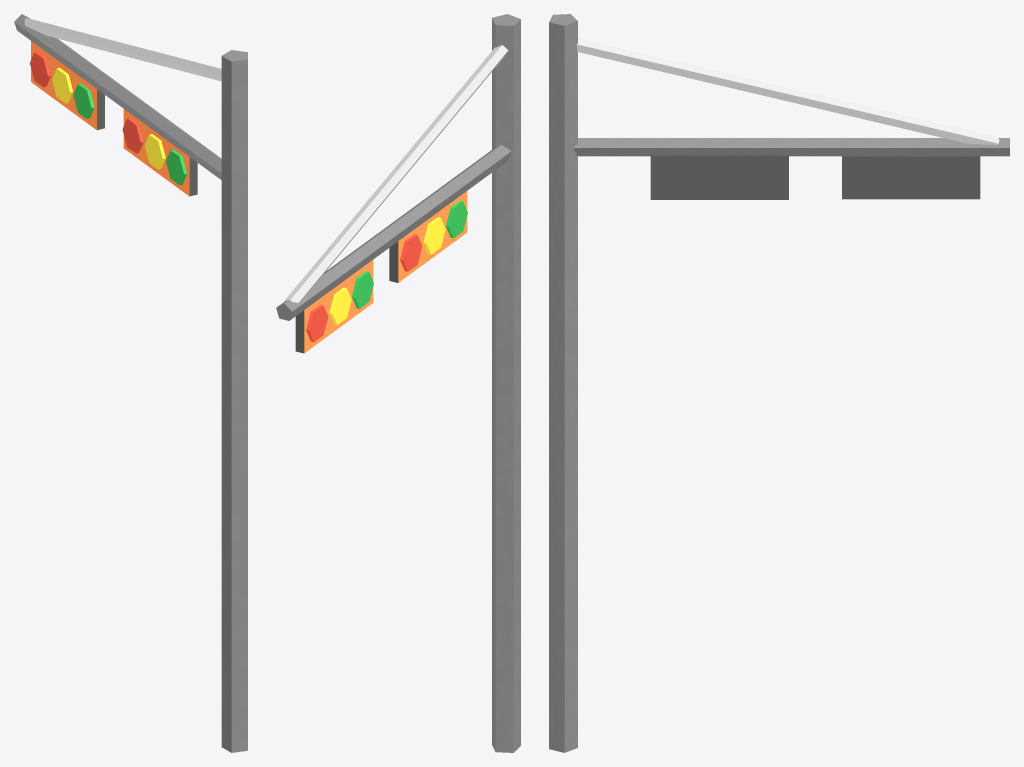
The model's file is stolb.002.glb.
3 renders of one model, left to right at view 1: azimuth 30°, elevation 25°; view 2: azimuth 150°, elevation 25°; view 3: azimuth 270°, elevation 25°, orthographic. The views are drawn at different scales.
Parts seen in each view (by area): view 1: stolb.002(Clone); view 2: stolb.002(Clone); view 3: stolb.002(Clone).
Part boxes in pixels (<box>): stolb.002(Clone): <box>14,14,247,752</box>; stolb.002(Clone): <box>276,14,520,752</box>; stolb.002(Clone): <box>549,14,1009,752</box>.
Size of the model in its own units: 0.1687 by 4.75 by 2.73.
Materials: 1 (1 with a texture image).
